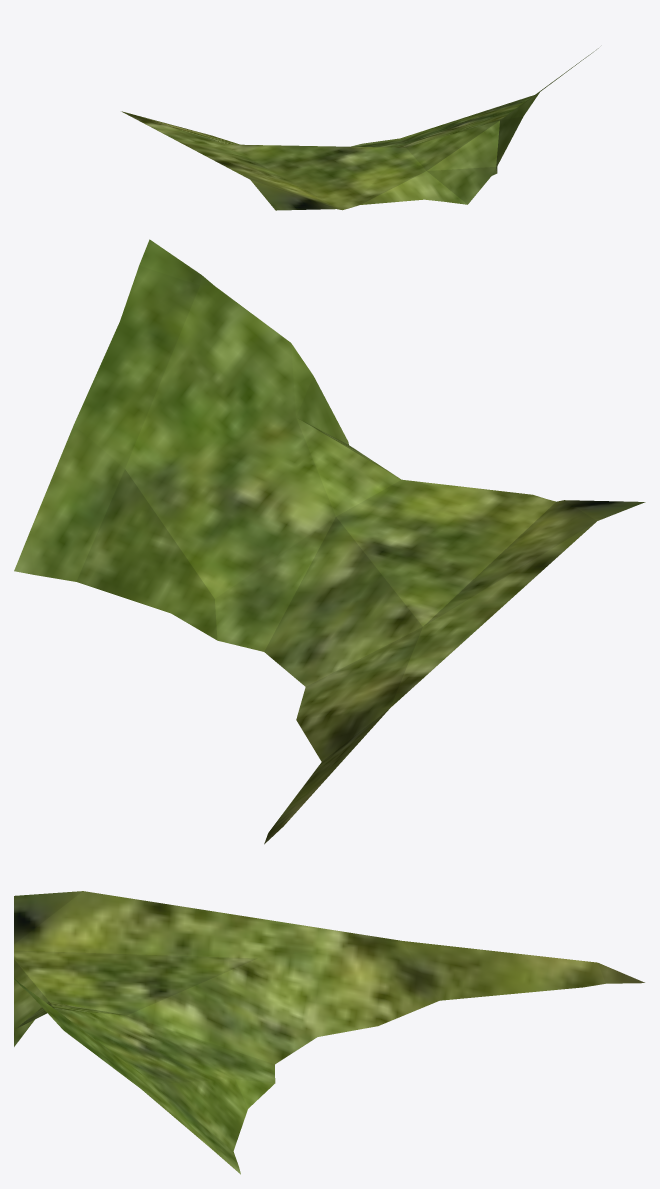
The picture shows the model from 3 angles, top to bottom: view 1: azimuth 30°, elevation 25°; view 2: azimuth 150°, elevation 25°; view 3: azimuth 270°, elevation 25°; orthographic projection. The views are drawn at different scales.
Bounding box in the file's own units: 4.18 × 1.87 × 5.51.
1 material, 1 textured.
